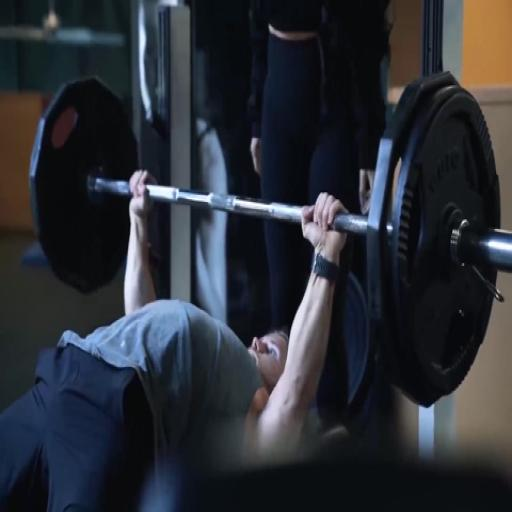exercise: (0, 166, 353, 510)
